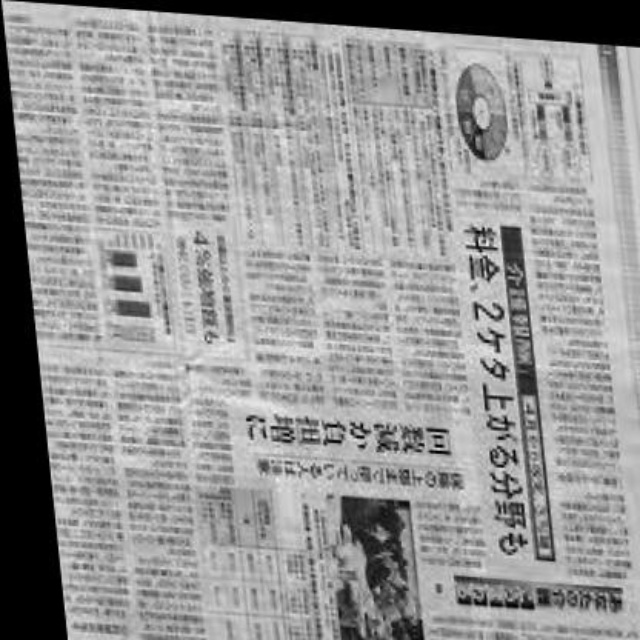trash: (5, 2, 638, 638)
